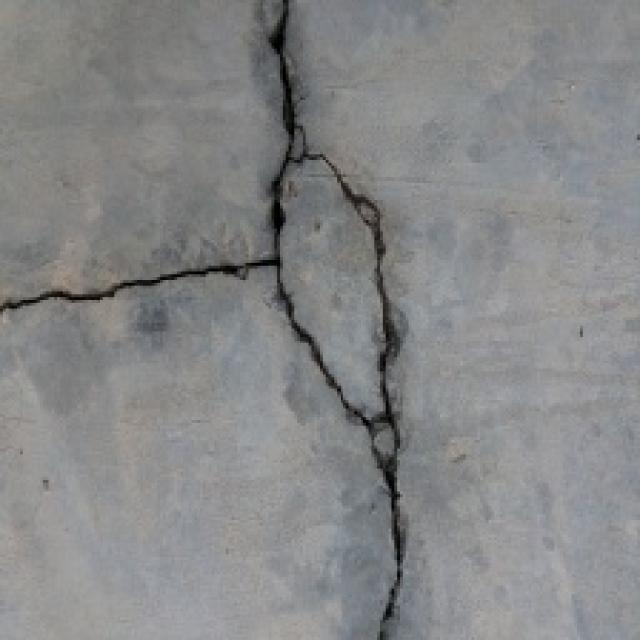crack: (6, 6, 436, 640)
